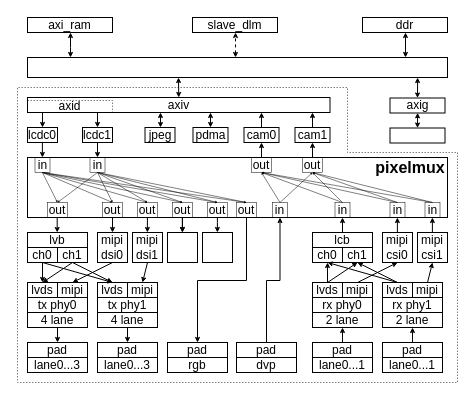
The diagram is 476 pixels wide and 401 high, and some of its shapes have lost their labels. Each missing label, with the centre of its shape:
"axif" goes at [237,67].
"gpu" goes at [417,135].
"gwc0" goes at [182,247].
"gwc1" goes at [217,247].
